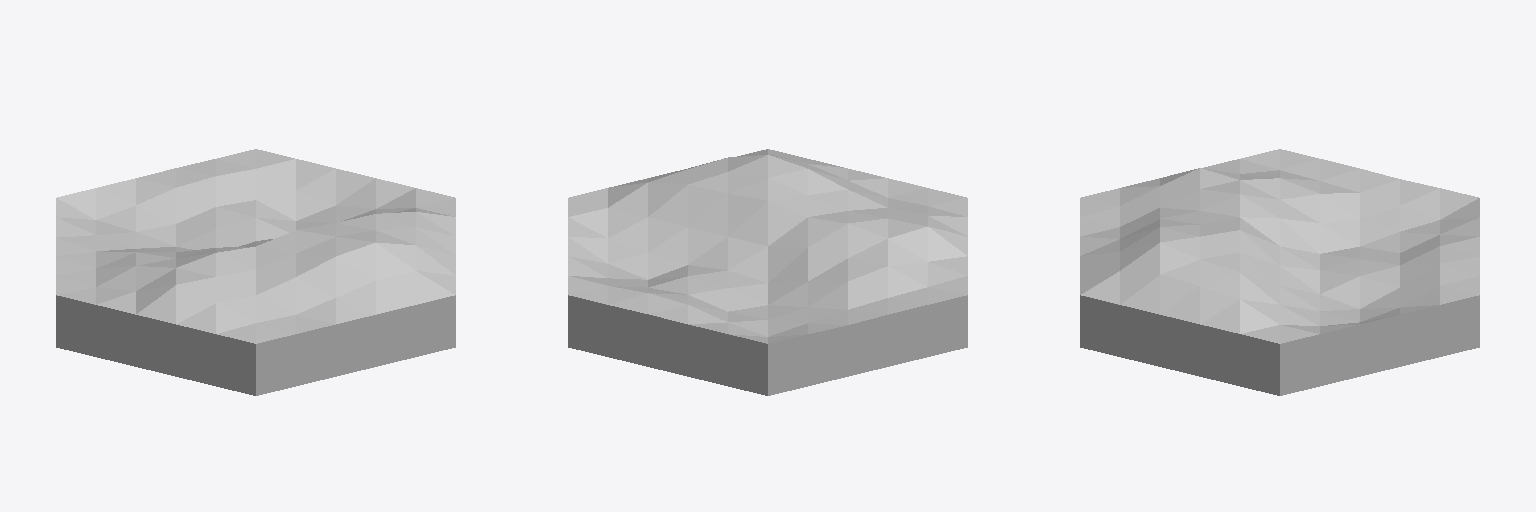
File: wood.obj
3 renders of one model, left to right at view 1: azimuth 30°, elevation 25°; view 2: azimuth 150°, elevation 25°; view 3: azimuth 270°, elevation 25°, orthographic.
Visible parts, largest first — view 1: Wood_Plane.003; view 2: Wood_Plane.003; view 3: Wood_Plane.003.
Part boxes in pixels (x1,y1,x2,y2): Wood_Plane.003: (56, 149, 455, 395); Wood_Plane.003: (568, 149, 967, 395); Wood_Plane.003: (1080, 149, 1479, 395).
Size of the model in its own units: 4 by 0.8169 by 3.46.